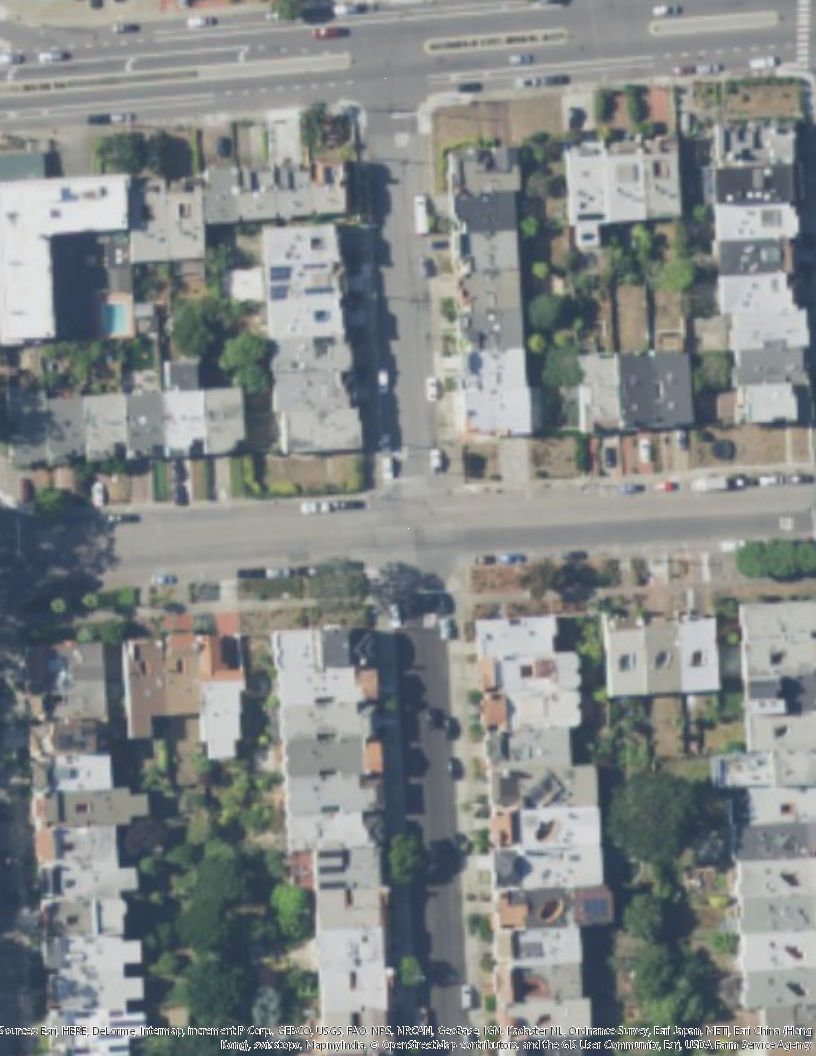zebracross: (796, 1, 813, 62)
